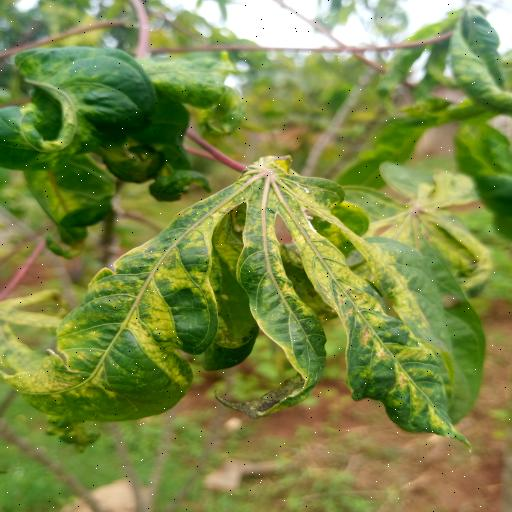Cassava_Mosaic: (32, 147, 494, 435)
